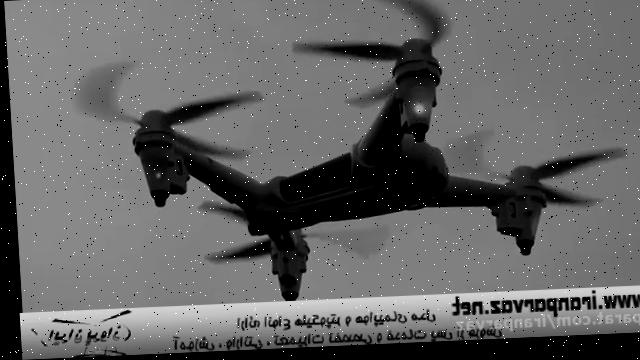drone: (55, 0, 633, 308)
